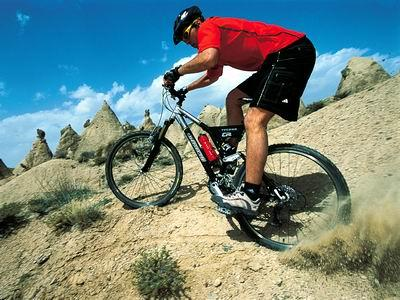person: (163, 6, 319, 217)
